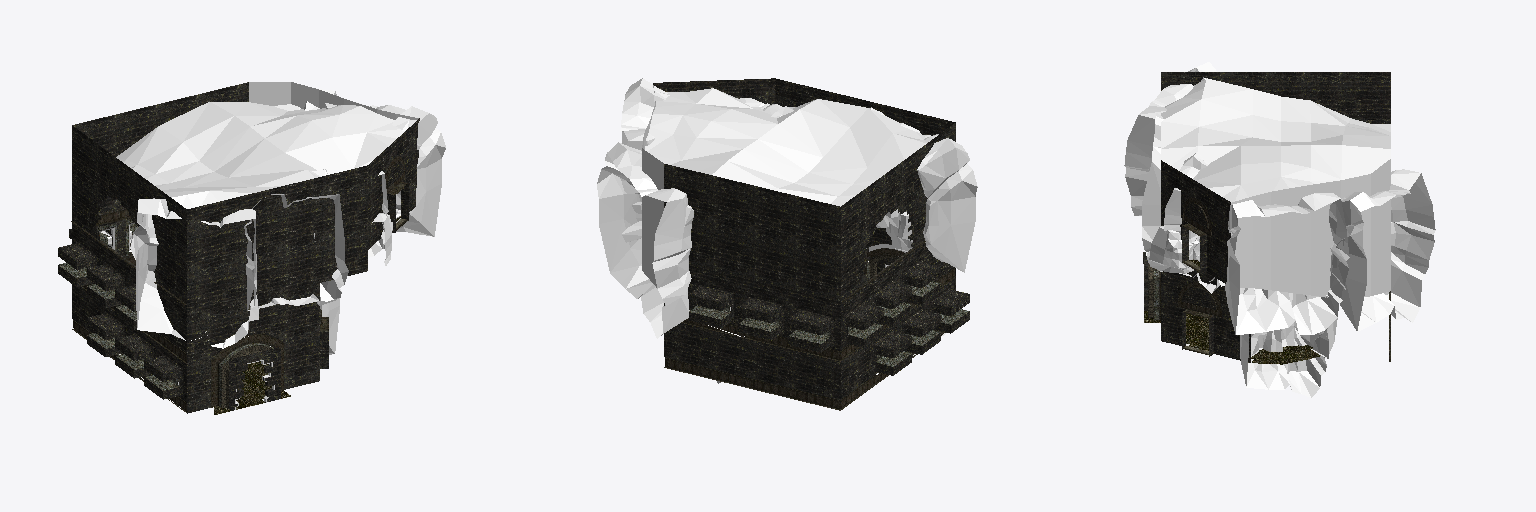
The picture shows the model from 3 angles: view 1: azimuth 30°, elevation 25°; view 2: azimuth 150°, elevation 25°; view 3: azimuth 270°, elevation 25°; orthographic projection.
Parts seen in each view (by area): view 1: mesh5, mesh9, mesh7, mesh4, mesh2, mesh13, mesh3; view 2: mesh5, mesh7, mesh9, mesh4, mesh2; view 3: mesh7, mesh9, mesh5, mesh13, mesh4.
Boxes of the visible parts, x1,y1,x2,y2 form: mesh5: [58, 82, 419, 413]; mesh9: [116, 102, 404, 409]; mesh7: [130, 82, 445, 354]; mesh4: [71, 156, 407, 412]; mesh2: [59, 224, 273, 407]; mesh13: [214, 216, 400, 414]; mesh3: [222, 345, 272, 408]; mesh5: [653, 78, 969, 399]; mesh7: [597, 78, 977, 383]; mesh9: [645, 88, 926, 267]; mesh4: [664, 241, 955, 410]; mesh2: [689, 261, 968, 366]; mesh7: [1124, 62, 1435, 397]; mesh9: [1161, 78, 1390, 357]; mesh5: [1143, 72, 1390, 362]; mesh13: [1144, 259, 1320, 364]; mesh4: [1159, 198, 1390, 361].
Bounding box in the file's own units: 20.38 × 14.56 × 16.37.
Materials: 14 (7 with a texture image).